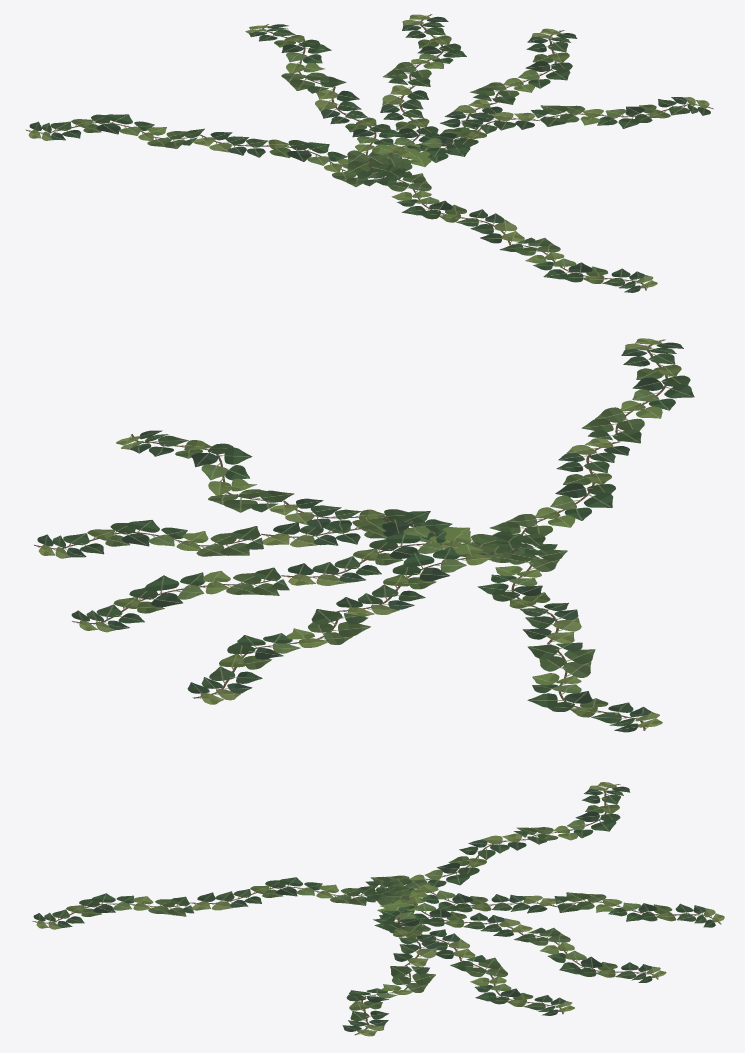
File: SM_Vine_Ground_Creeper.fbx
The picture shows the model from 3 angles, top to bottom: view 1: azimuth 30°, elevation 25°; view 2: azimuth 150°, elevation 25°; view 3: azimuth 270°, elevation 25°; orthographic projection. The views are drawn at different scales.
Parts seen in each view (by area): view 1: SM_Vine_Ground_Creeper; view 2: SM_Vine_Ground_Creeper; view 3: SM_Vine_Ground_Creeper.
Boxes of the visible parts, left/top/right/bottom form: SM_Vine_Ground_Creeper: left=26, top=14, right=713, bottom=292; SM_Vine_Ground_Creeper: left=34, top=338, right=694, bottom=732; SM_Vine_Ground_Creeper: left=32, top=782, right=724, bottom=1036.
Bounding box in the file's own units: 2.53 × 0.0442 × 3.02.
Materials: 1 (1 with a texture image).
